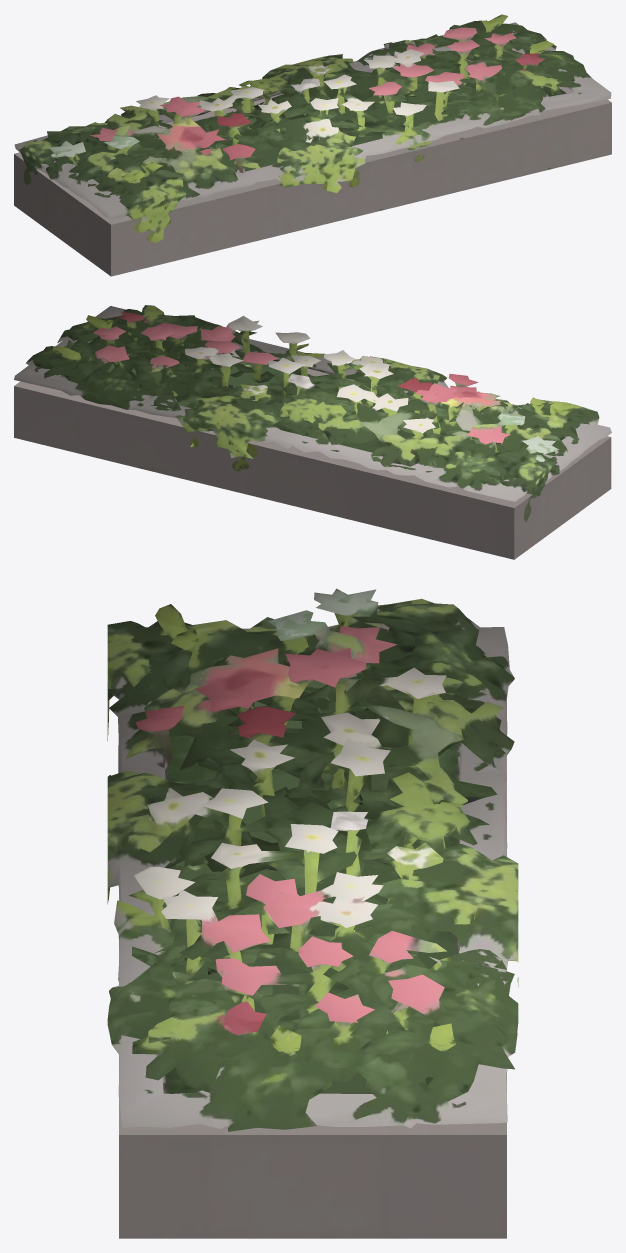
The model's file is flowerbed.glb.
3 views of the same model, one above another, from view 1: azimuth 30°, elevation 25°; view 2: azimuth 150°, elevation 25°; view 3: azimuth 270°, elevation 25° (orthographic). The views are drawn at different scales.
Parts seen in each view (by area): view 1: body; view 2: body; view 3: body.
Boxes of the visible parts, box(x1,y1,x2,y2) form: body: box(14, 14, 611, 276); body: box(14, 305, 611, 559); body: box(107, 588, 518, 1238).
Bounding box in the file's own units: 3.1 × 0.6032 × 1.08.
1 material, 1 textured.
